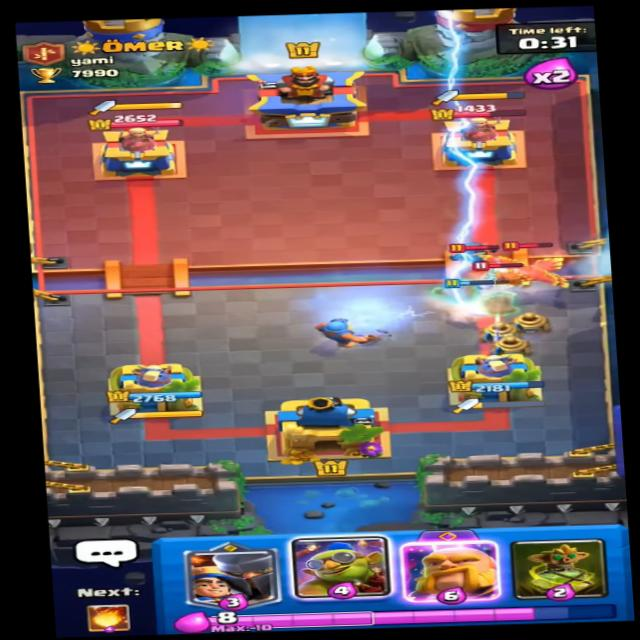lightning: (427, 9, 515, 302), (308, 283, 420, 340)
mini-pekka: (443, 237, 497, 265)
monk: (467, 258, 536, 307)
monk-ability: (458, 256, 539, 300)
phoenix: (489, 234, 613, 292)
